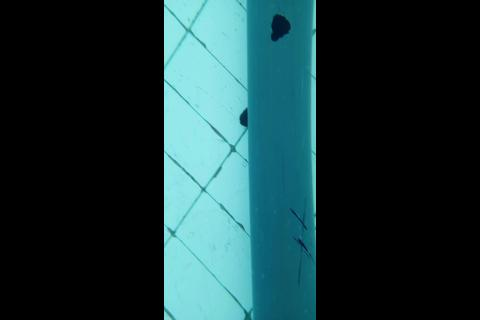kebocoran: (269, 11, 289, 43)
keretakan: (290, 206, 313, 286)
